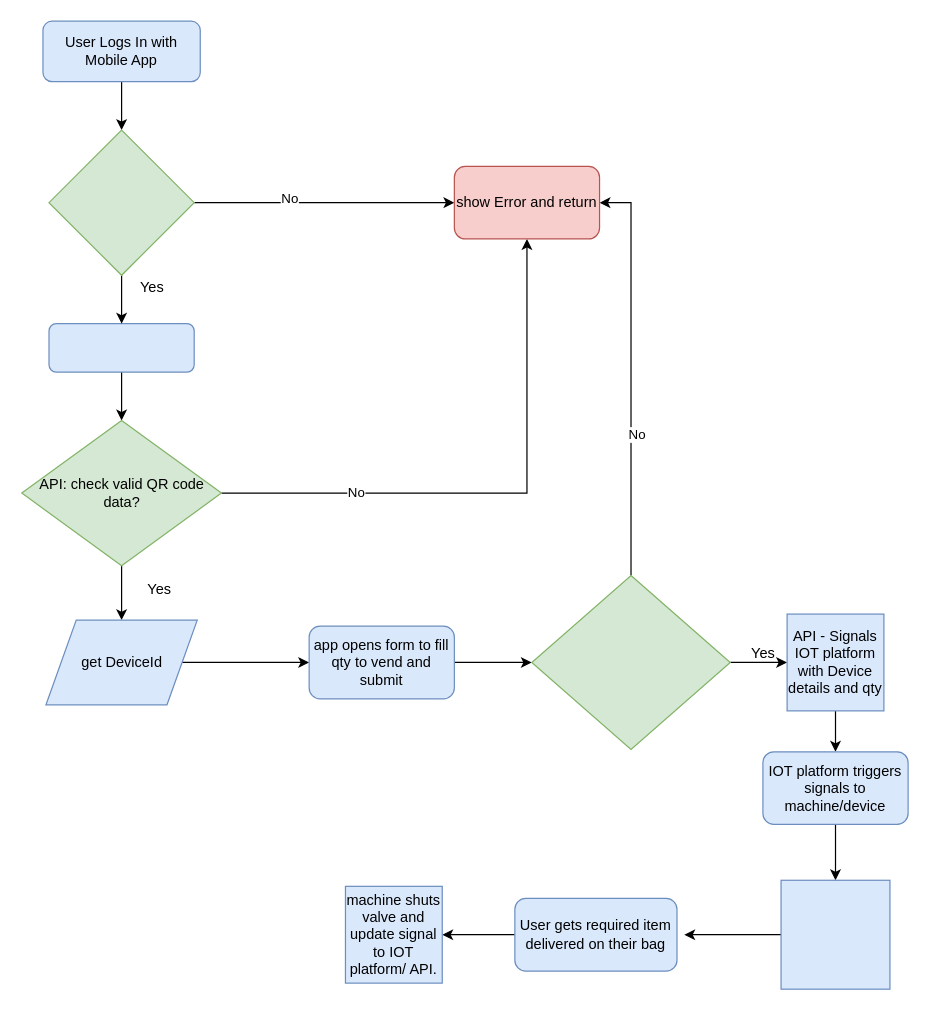
Some shapes in this 929 by 1010 pixel diagram are drawn without their labels. The shapes that lost their labels are listed below. From the top down, each one's box as (x1, y1, x2, y2) in pixels, then its label:
(48, 129, 194, 275): API: check for valid credential?
(48, 322, 194, 372): Scans QR code of machine
(531, 574, 730, 749): API: check valid input/ available qty/credit in machine/ user?
(780, 879, 890, 989): machine opens electronic valve and keep track on load sensor.
